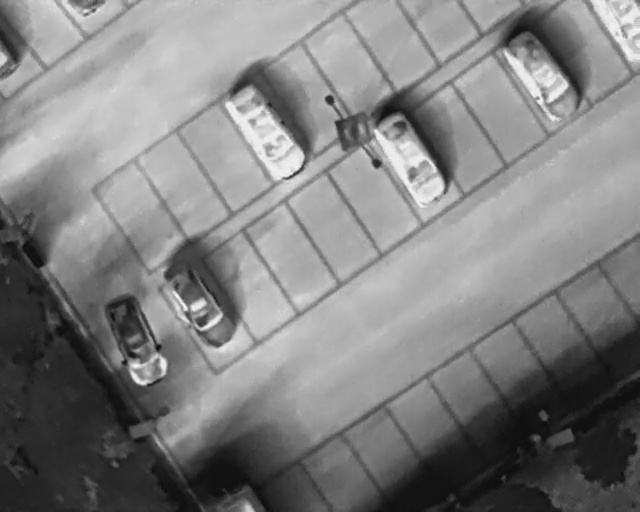Car: (218, 77, 314, 187), (495, 20, 588, 128), (95, 285, 176, 393), (369, 107, 454, 208), (156, 258, 243, 354)
